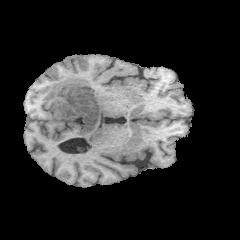glioma: (42, 76, 101, 137)
